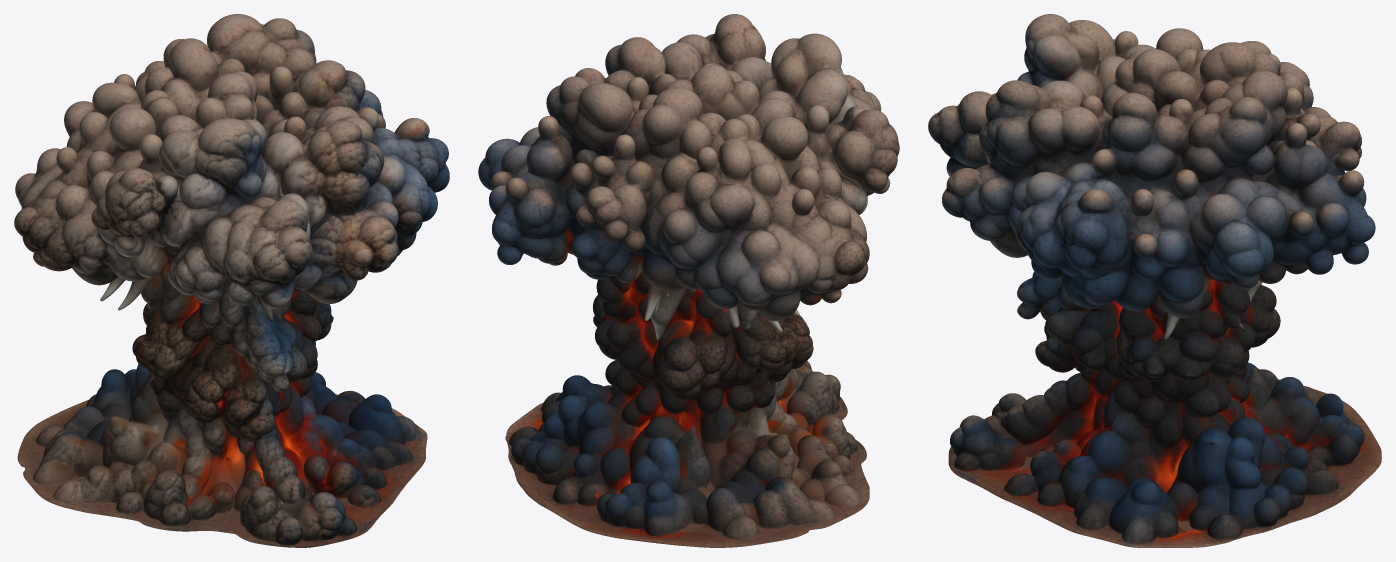
Rendered from volcano_ash.glb.
3 renders of one model, left to right at view 1: azimuth 30°, elevation 25°; view 2: azimuth 150°, elevation 25°; view 3: azimuth 270°, elevation 25°, orthographic. The views are drawn at different scales.
Parts seen in each view (by area): view 1: material; view 2: material; view 3: material.
Boxes of the visible parts, left/top/right/bottom form: material: left=14, top=14, right=449, bottom=547; material: left=478, top=14, right=899, bottom=547; material: left=928, top=14, right=1381, bottom=547.
Size of the model in its own units: 0.8272 by 0.8434 by 0.8441.
1 material, 1 textured.
